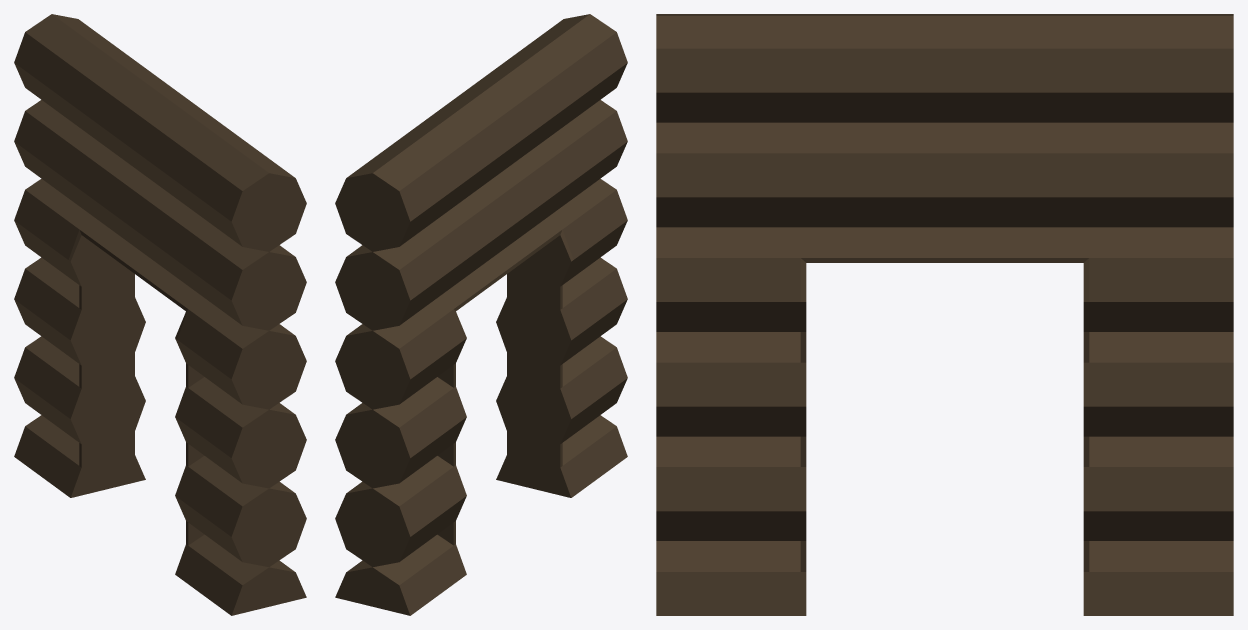
The model's file is Cabin_DoorFrame.fbx.
The picture shows the model from 3 angles, left to right: view 1: azimuth 30°, elevation 25°; view 2: azimuth 150°, elevation 25°; view 3: azimuth 270°, elevation 25°; orthographic projection. The views are drawn at different scales.
Parts seen in each view (by area): view 1: Cabin_Doorframe; view 2: Cabin_Doorframe; view 3: Cabin_Doorframe.
Part boxes in pixels (x1,y1,x2,y2): Cabin_Doorframe: (14, 14, 306, 615); Cabin_Doorframe: (335, 14, 627, 615); Cabin_Doorframe: (656, 14, 1233, 615).
Size of the model in its own units: 0.2 by 1.1 by 1.
